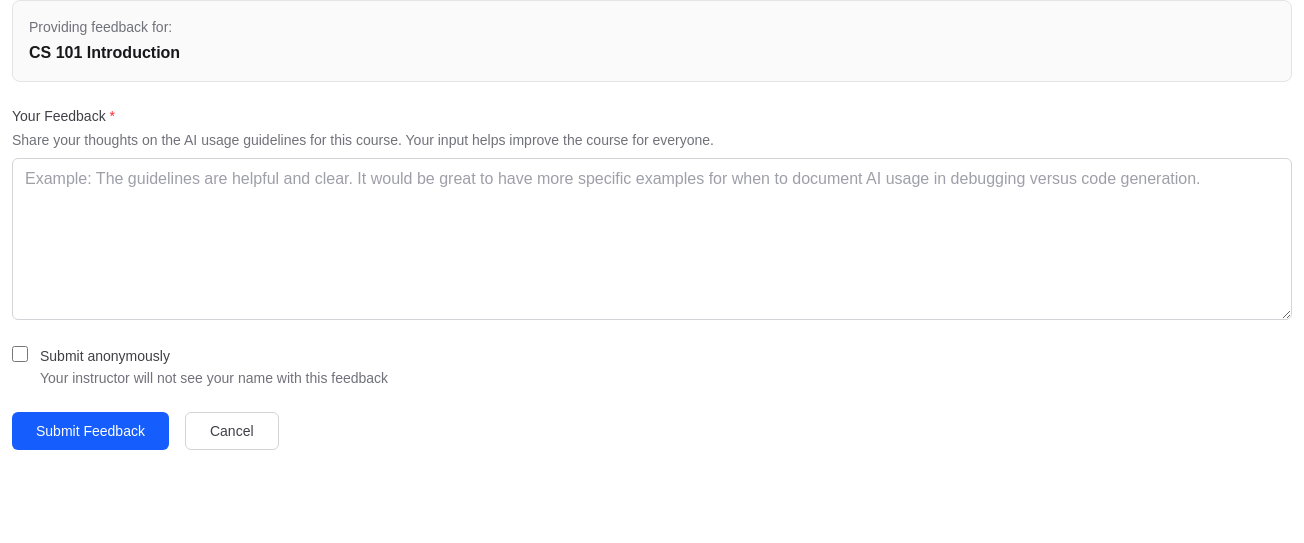
FeedbackForm Component › displays an error message when submitFeedback returns an error object
The image size is (1304, 543).
Step 1. Type "Just some quick feedback for this app" into the text box labelled "Your Feedback *" → [652, 239], box x1=12 y1=158 x2=1292 y2=320
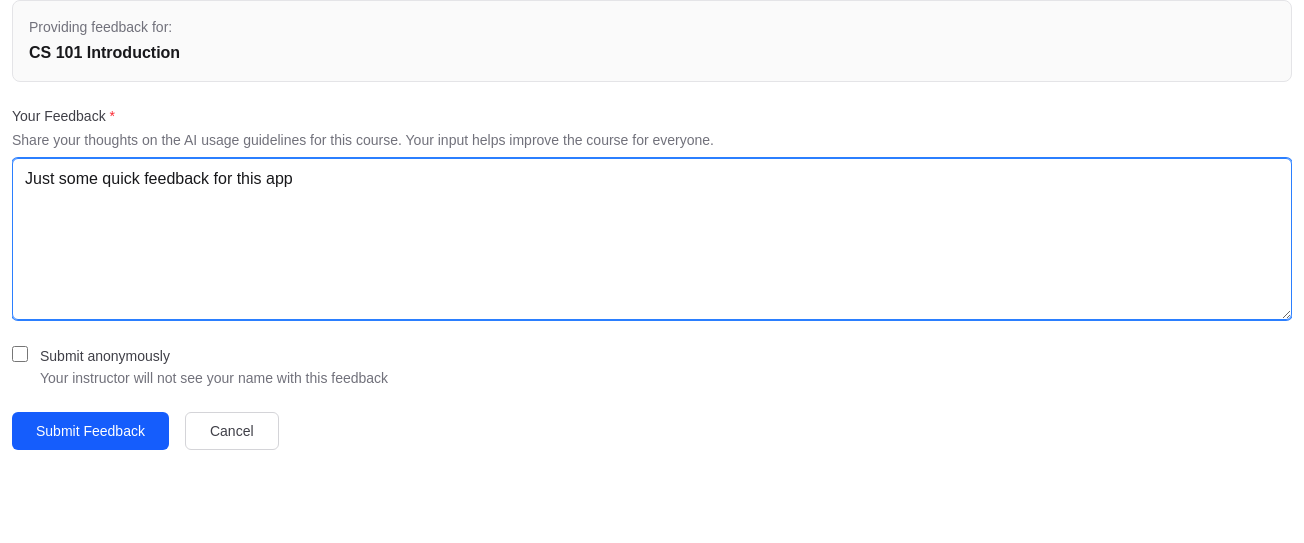
Step 2. Click the button "Submit Feedback" → [90, 431], box x1=12 y1=412 x2=169 y2=450
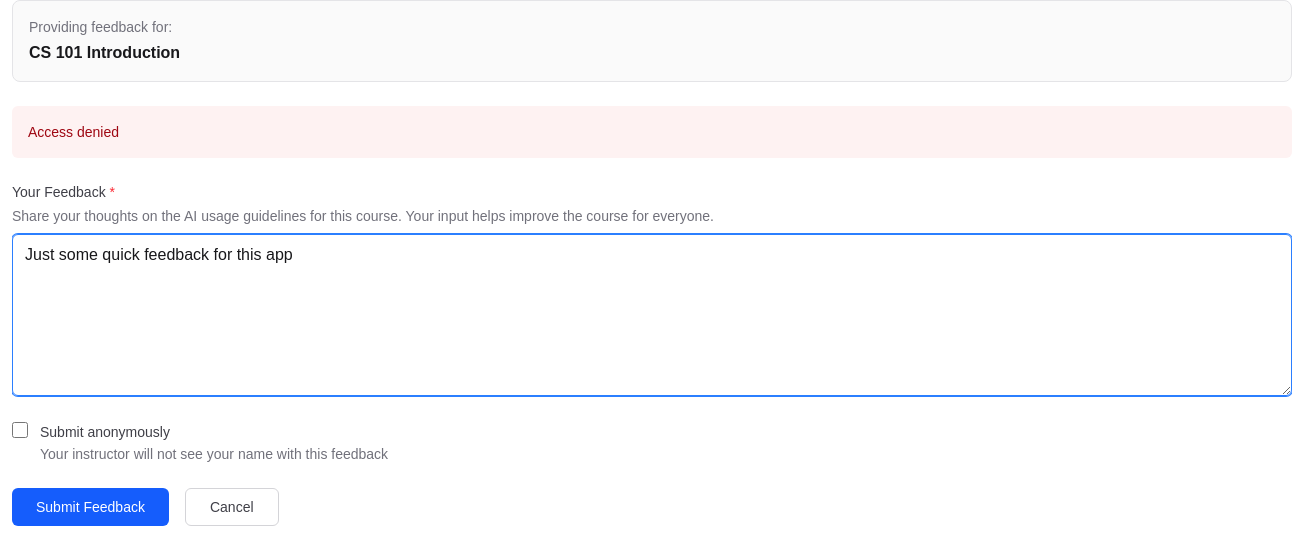
Check: the text "Access denied" is shown, box x1=12 y1=106 x2=1292 y2=158
